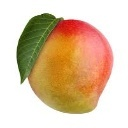mango: (24, 18, 115, 114)
